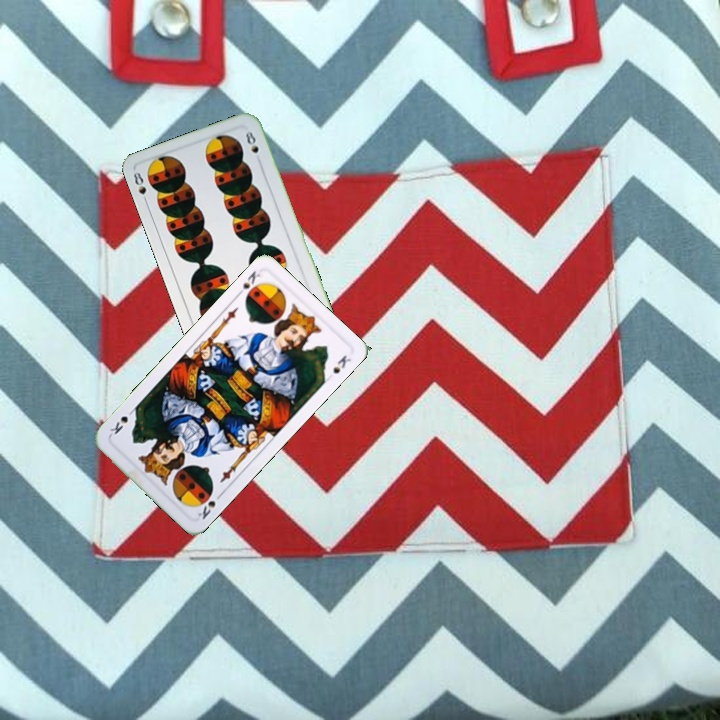S8: (129, 167, 150, 207)
SK: (232, 266, 264, 303), (194, 488, 225, 522)
